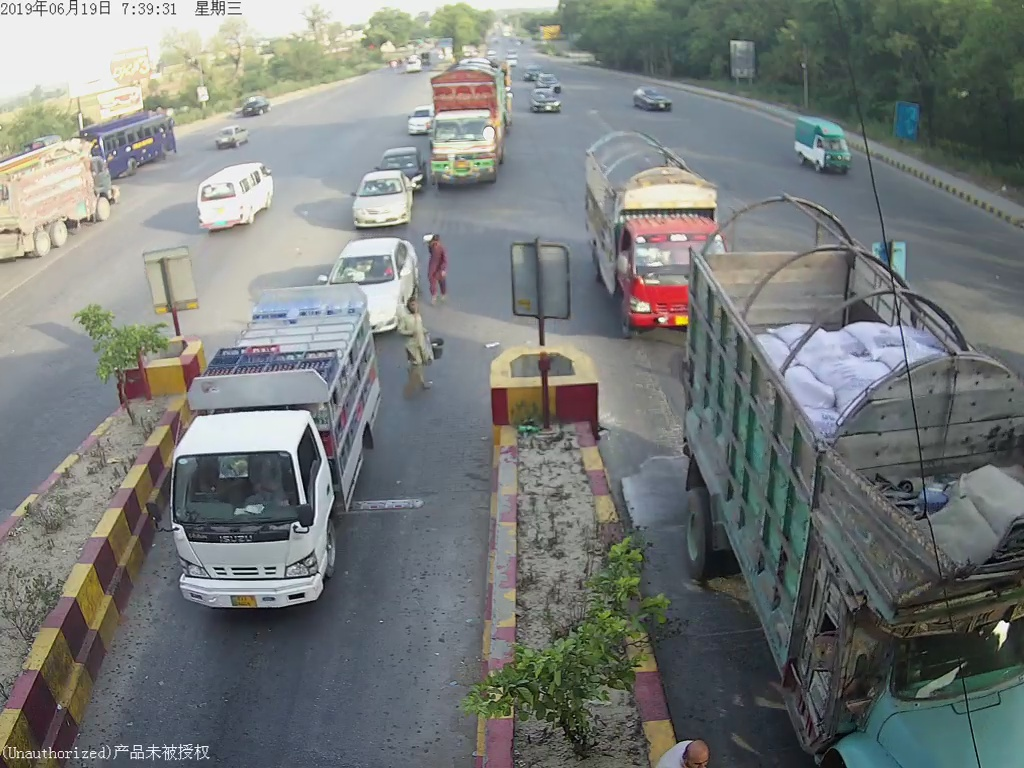Cat-1: (350, 176, 412, 223)
Cat-2: (177, 296, 377, 613)
